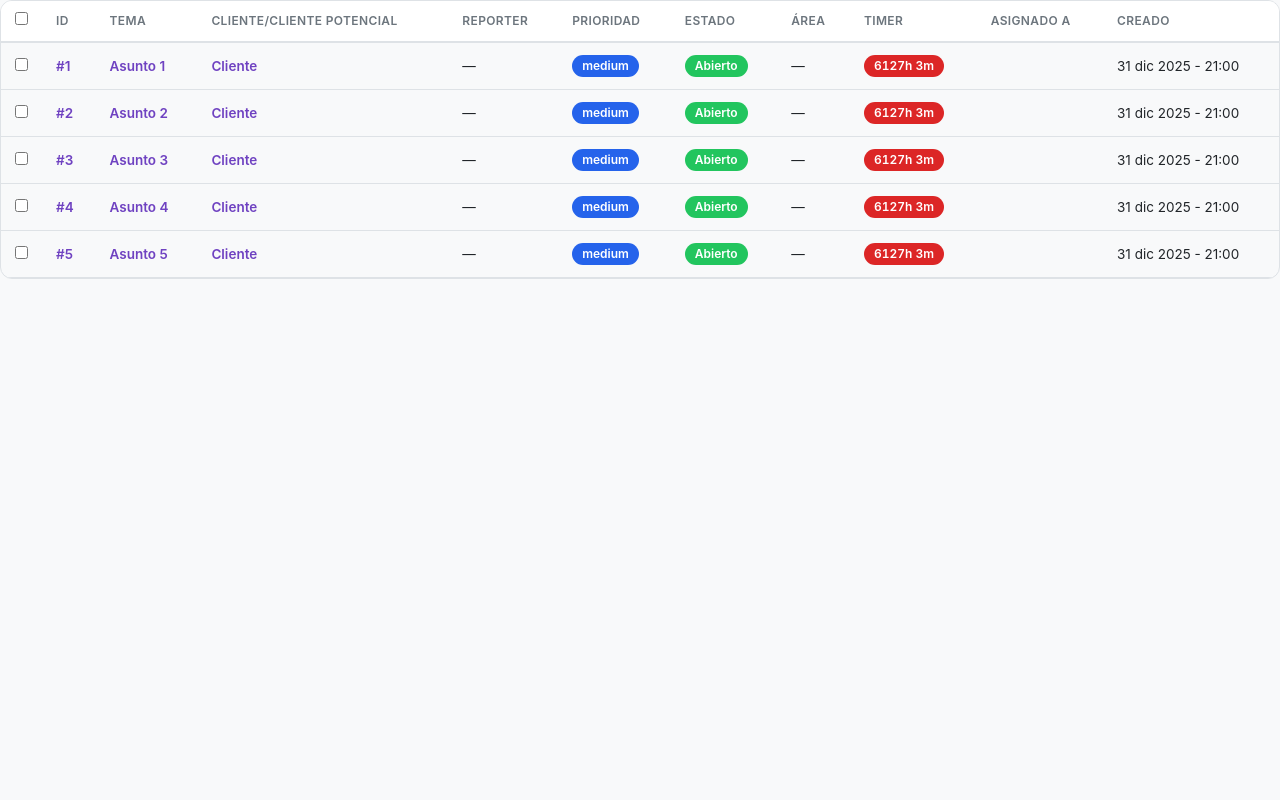
Test: TicketsTableView — bulk execution › full success: assigns all 5, toast with count, selection cleared
Click the checkbox named "Seleccionar todos" at {"x": 22, "y": 18}, box top-left (15, 12), bottom-right (28, 25)
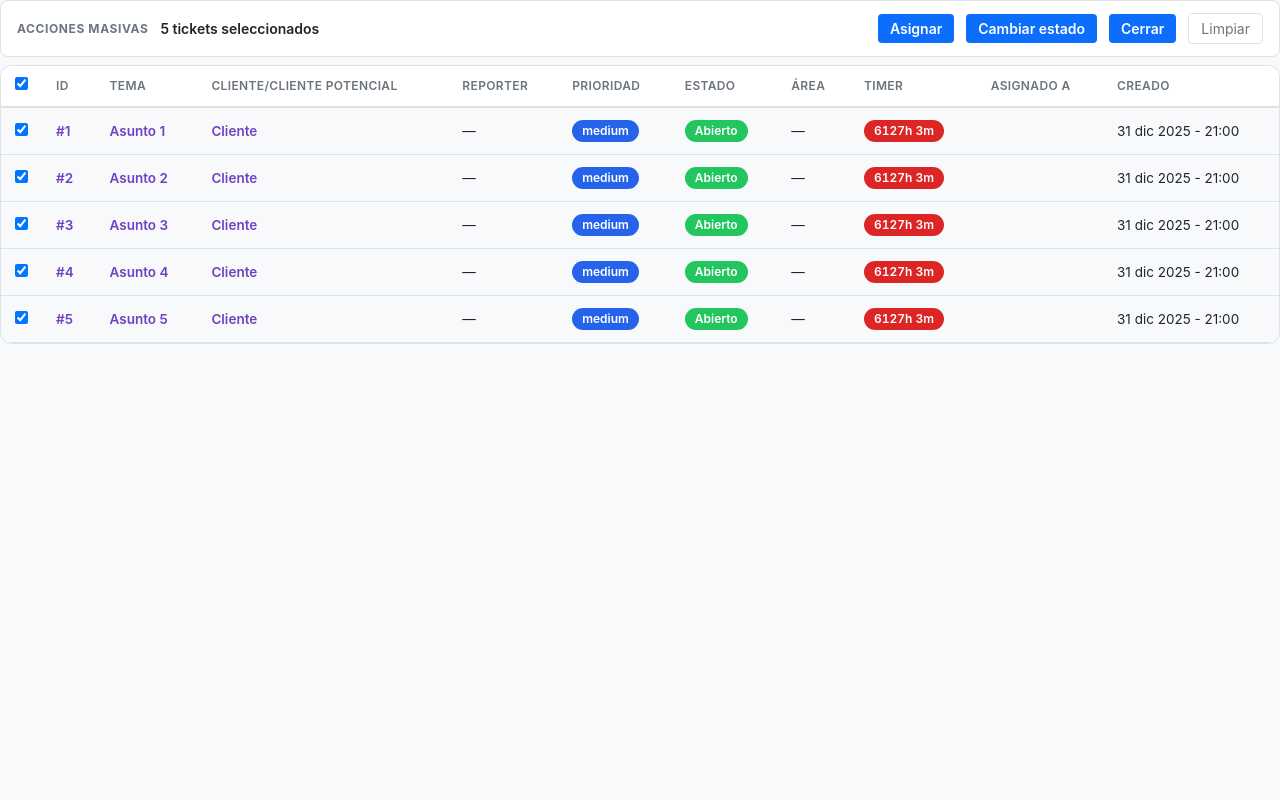
Click the button "Asignar" at {"x": 916, "y": 28}, box top-left (878, 14), bottom-right (954, 43)
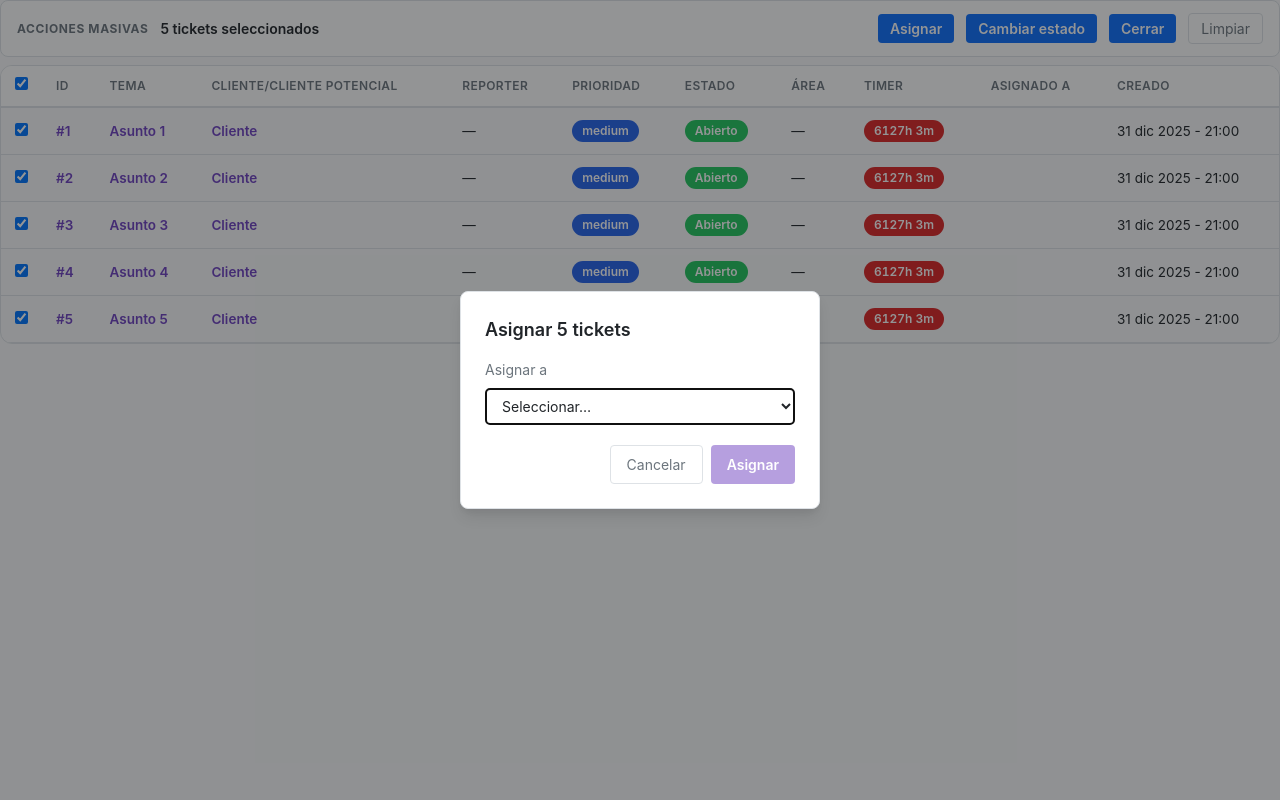
Select "Luis" in the dropdown at {"x": 640, "y": 406}, box top-left (485, 388), bottom-right (795, 425)
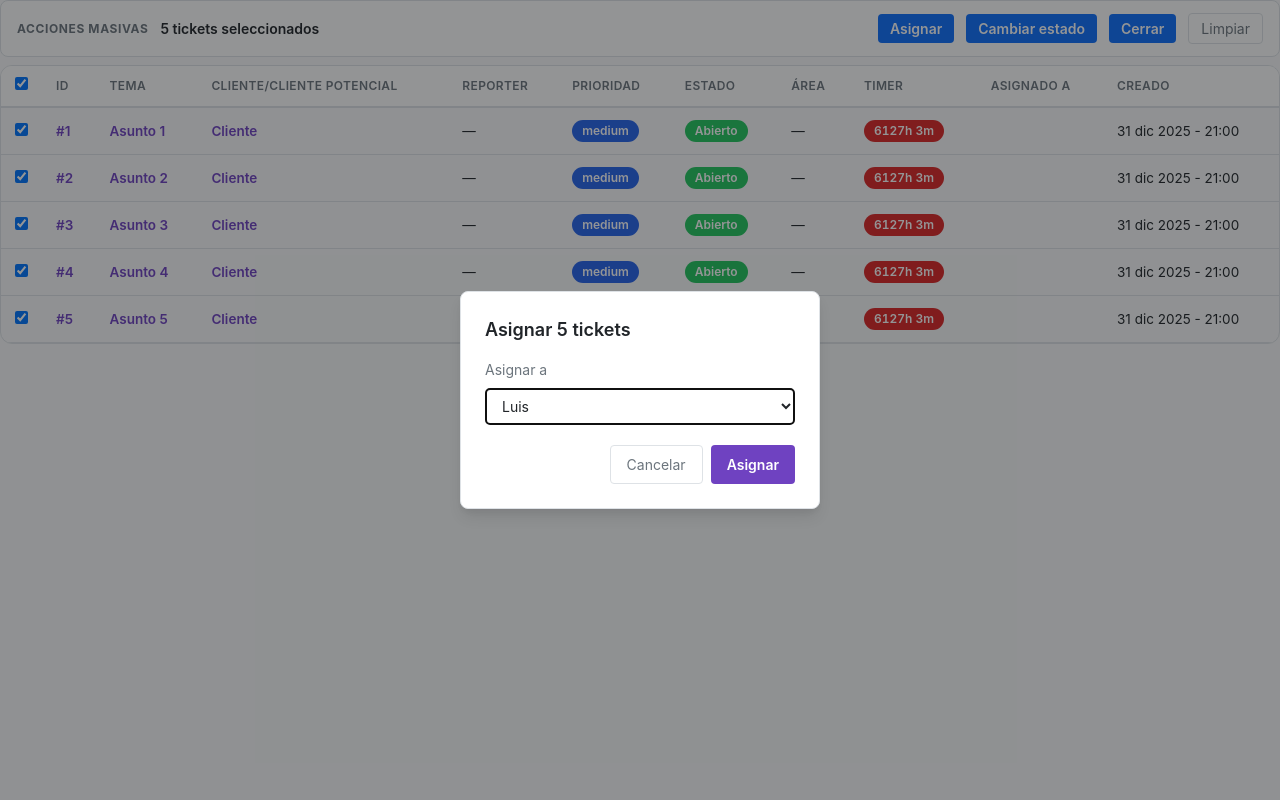
Click the button "Asignar" at {"x": 753, "y": 464}, box top-left (711, 445), bottom-right (795, 484)
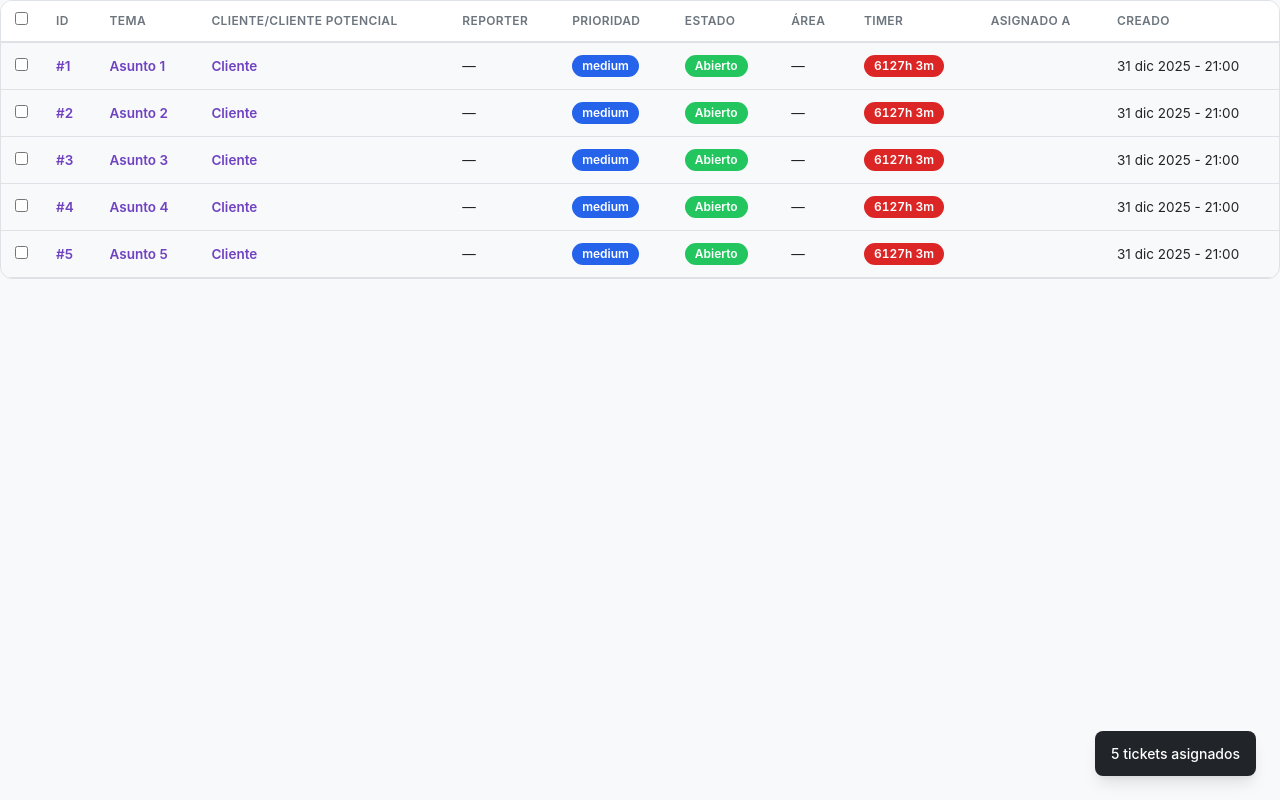
Now the text "5 tickets asignados" is shown, box top-left (1095, 731), bottom-right (1256, 776)
Now the element with test id "ticket-bulk-bar" is gone
